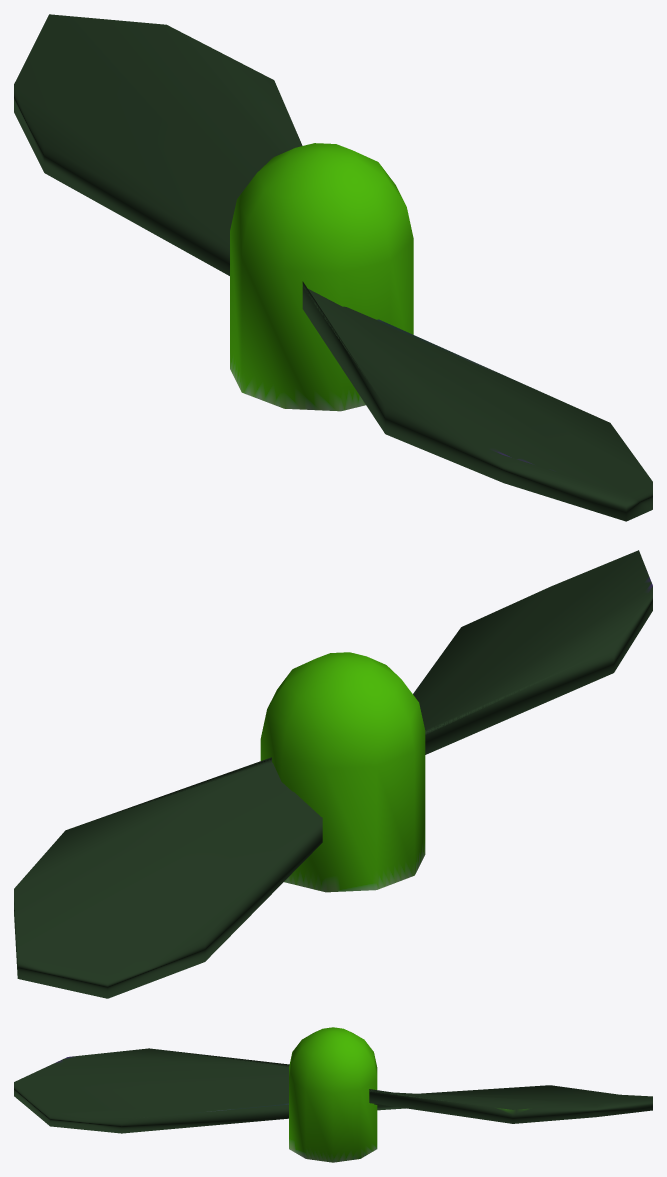
Rendered from SM_Dron_SM_D_Propeller2.fbx.
3 views of the same model, one above another, from view 1: azimuth 30°, elevation 25°; view 2: azimuth 150°, elevation 25°; view 3: azimuth 270°, elevation 25° (orthographic). The views are drawn at different scales.
Visible parts, largest first — view 1: SM_Dron_SM_D_Propeller2; view 2: SM_Dron_SM_D_Propeller2; view 3: SM_Dron_SM_D_Propeller2.
Boxes of the visible parts, x1,y1,x2,y2 form: SM_Dron_SM_D_Propeller2: [14, 14, 652, 521]; SM_Dron_SM_D_Propeller2: [14, 550, 652, 998]; SM_Dron_SM_D_Propeller2: [14, 1027, 652, 1162].
Size of the model in its own units: 5.44 by 23.89 by 4.6.
1 material, 1 textured.
